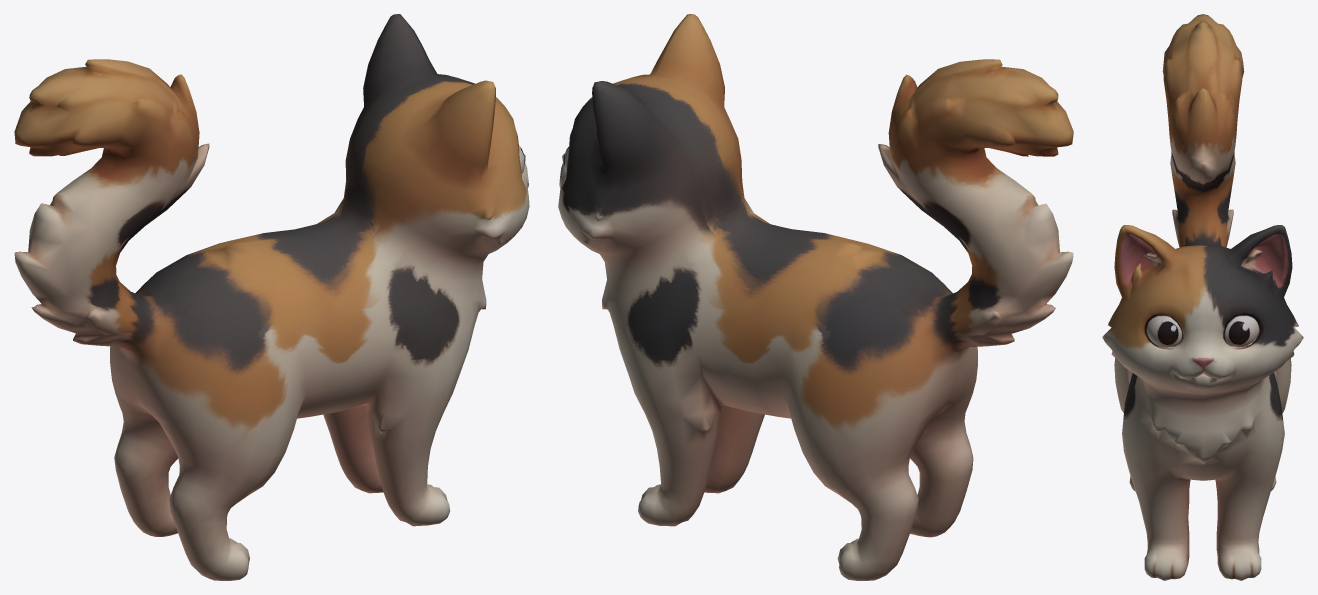
Rendered from village_cat.glb.
3 views of the same model, side by side, from view 1: azimuth 30°, elevation 25°; view 2: azimuth 150°, elevation 25°; view 3: azimuth 270°, elevation 25° (orthographic). The views are drawn at different scales.
Visible parts, largest first — view 1: tripo_node_bb124485-a11e-4b51-907f-5f9b12661915; view 2: tripo_node_bb124485-a11e-4b51-907f-5f9b12661915; view 3: tripo_node_bb124485-a11e-4b51-907f-5f9b12661915.
Boxes of the visible parts, left/top/right/bottom form: tripo_node_bb124485-a11e-4b51-907f-5f9b12661915: left=14, top=14, right=529, bottom=580; tripo_node_bb124485-a11e-4b51-907f-5f9b12661915: left=558, top=14, right=1073, bottom=580; tripo_node_bb124485-a11e-4b51-907f-5f9b12661915: left=1102, top=14, right=1303, bottom=580.
Size of the model in its own units: 0.998 by 0.9707 by 0.416.
1 material, 1 textured.
